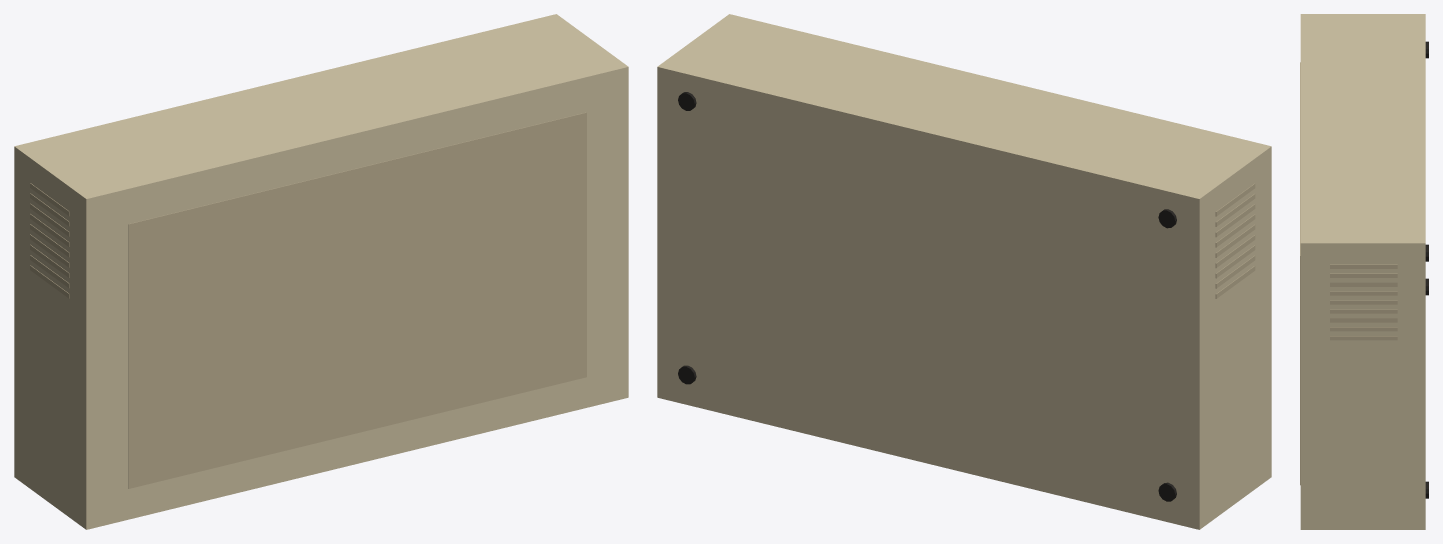
Rendered from DuoDisk.obj.
3 renders of one model, left to right at view 1: azimuth 30°, elevation 25°; view 2: azimuth 150°, elevation 25°; view 3: azimuth 270°, elevation 25°, orthographic. The views are drawn at different scales.
Size of the model in its own units: 387 by 225 by 91.55.
